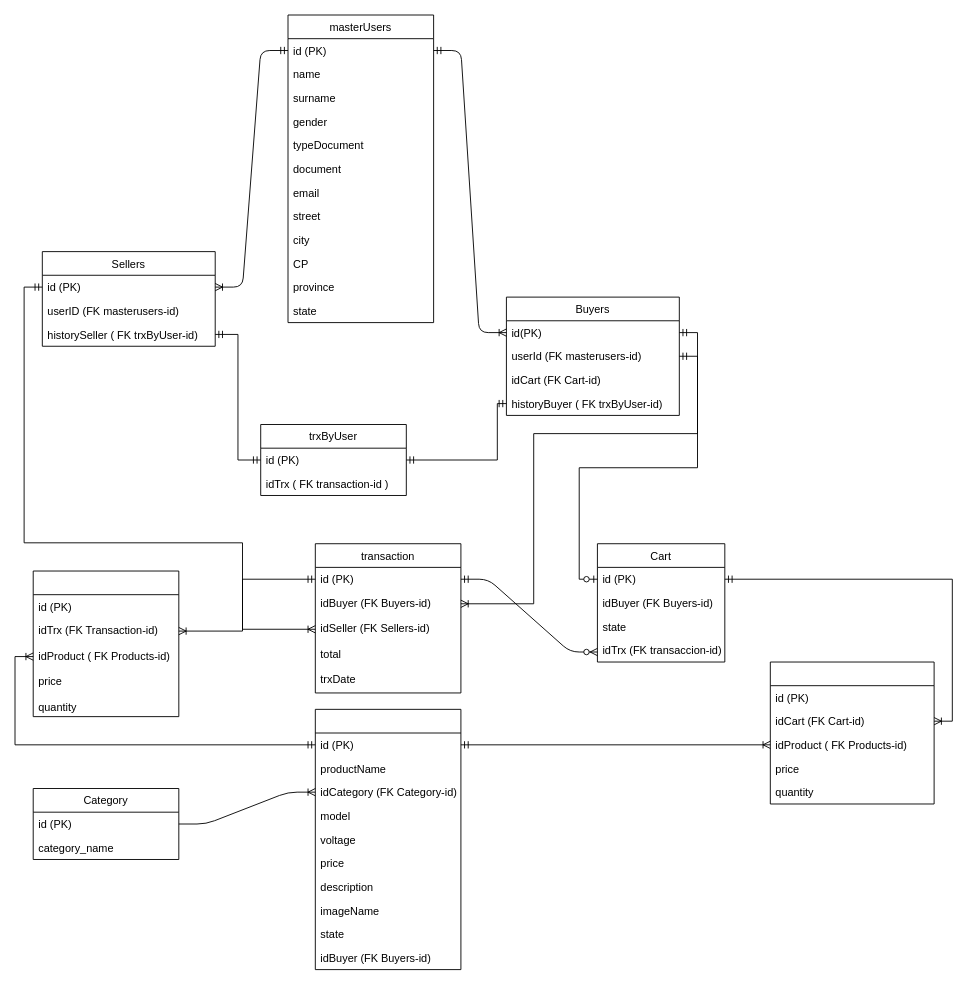
Image size: 967x985. Some labels were removed from this diagram. The shapes that lost their labels are listed below. From the top down, each one's box as (x1, y1, x2, y2) in pixels, then its label:
(32, 570, 179, 717): transactionItem
(769, 661, 934, 804): CartItems
(314, 708, 461, 970): Products
